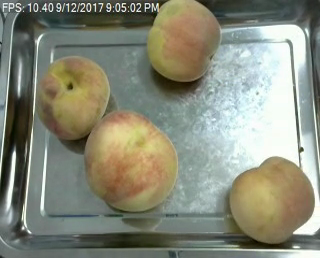Peach: (83, 109, 177, 213), (228, 155, 315, 244), (36, 55, 111, 140), (145, 0, 222, 81)
